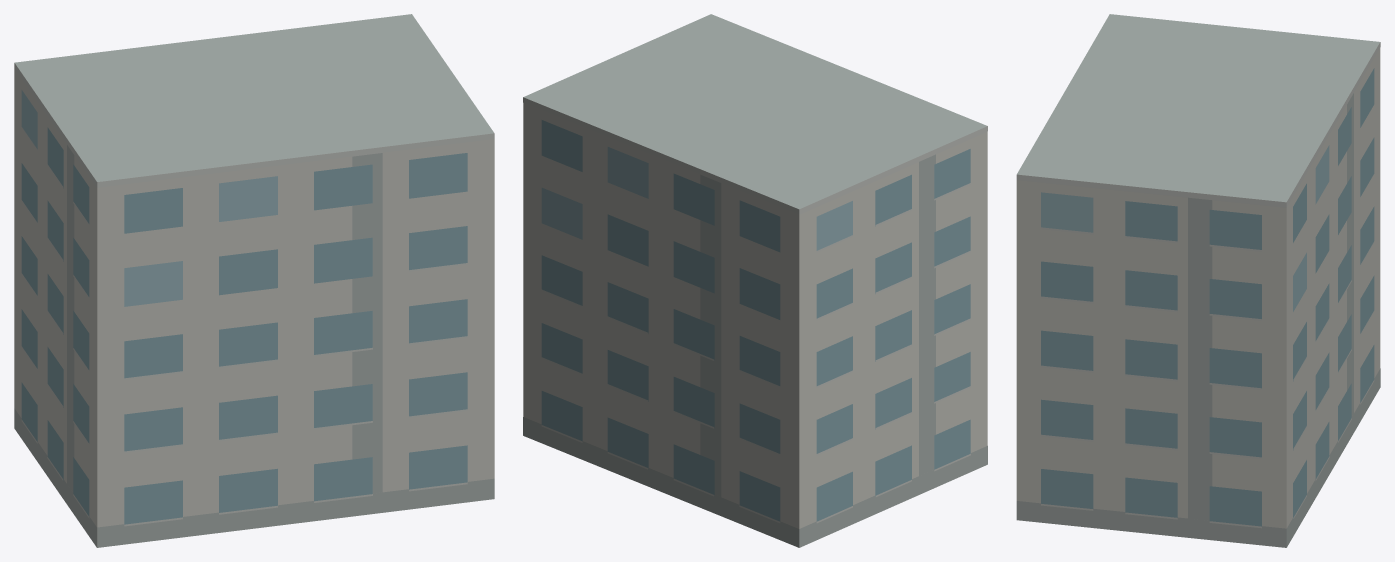
File: survey-upis-32889745.glb
3 views of the same model, side by side, from view 1: azimuth 30°, elevation 25°; view 2: azimuth 150°, elevation 25°; view 3: azimuth 270°, elevation 25° (orthographic). The views are drawn at different scales.
Parts seen in each view (by area): view 1: survey-upis-32889745.tmp; view 2: survey-upis-32889745.tmp; view 3: survey-upis-32889745.tmp.
Part boxes in pixels (x1=…): survey-upis-32889745.tmp: x1=14, y1=14, x2=494, y2=547; survey-upis-32889745.tmp: x1=523, y1=14, x2=987, y2=547; survey-upis-32889745.tmp: x1=1016, y1=14, x2=1380, y2=547.
Size of the model in its own units: 17.83 by 15.25 by 14.56.
